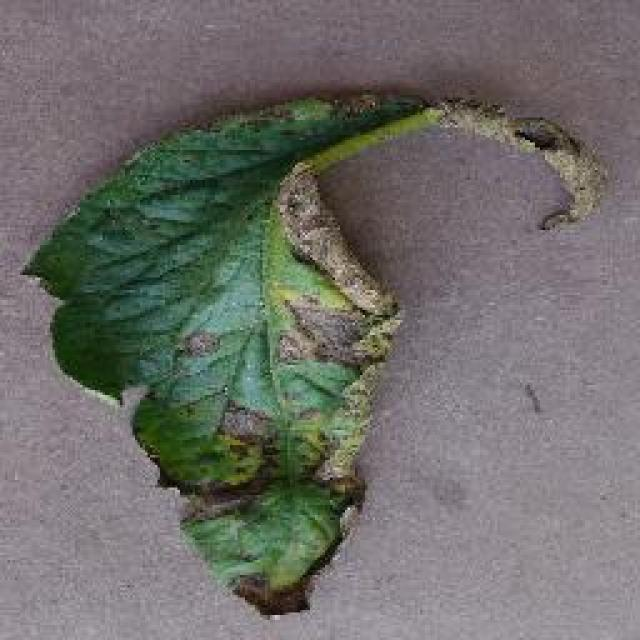Tomato___Early_blight: (19, 93, 607, 622)
